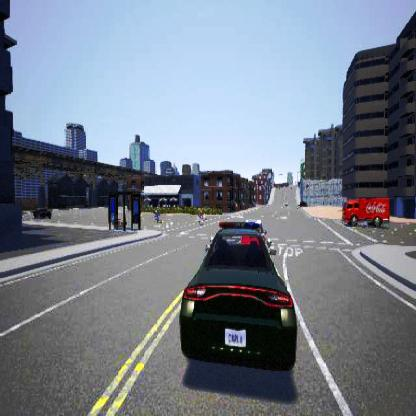bike: (195, 211, 207, 226), (152, 205, 162, 222)
vehicle: (179, 218, 296, 370), (341, 197, 389, 227)
